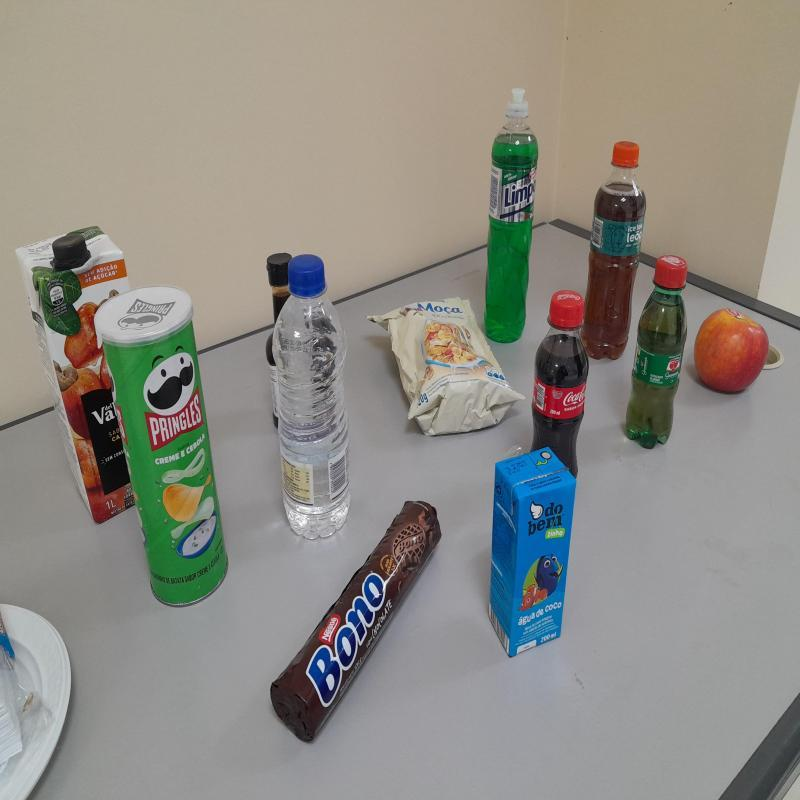Apple: (695, 307, 772, 394)
Cleaner: (484, 88, 540, 347)
CoconutWater: (489, 447, 575, 652)
Coke: (529, 291, 591, 474)
Cookies: (275, 501, 443, 750)
CornFlakes: (368, 290, 519, 442)
EnglishSauce: (268, 251, 292, 332)
Guarana: (625, 256, 688, 449)
IceTea: (584, 145, 648, 362)
Pringles: (92, 288, 234, 607)
Water: (269, 252, 353, 542)
